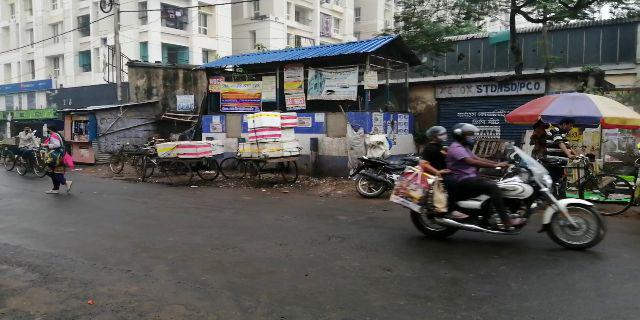Motorbike: (385, 118, 611, 262)
